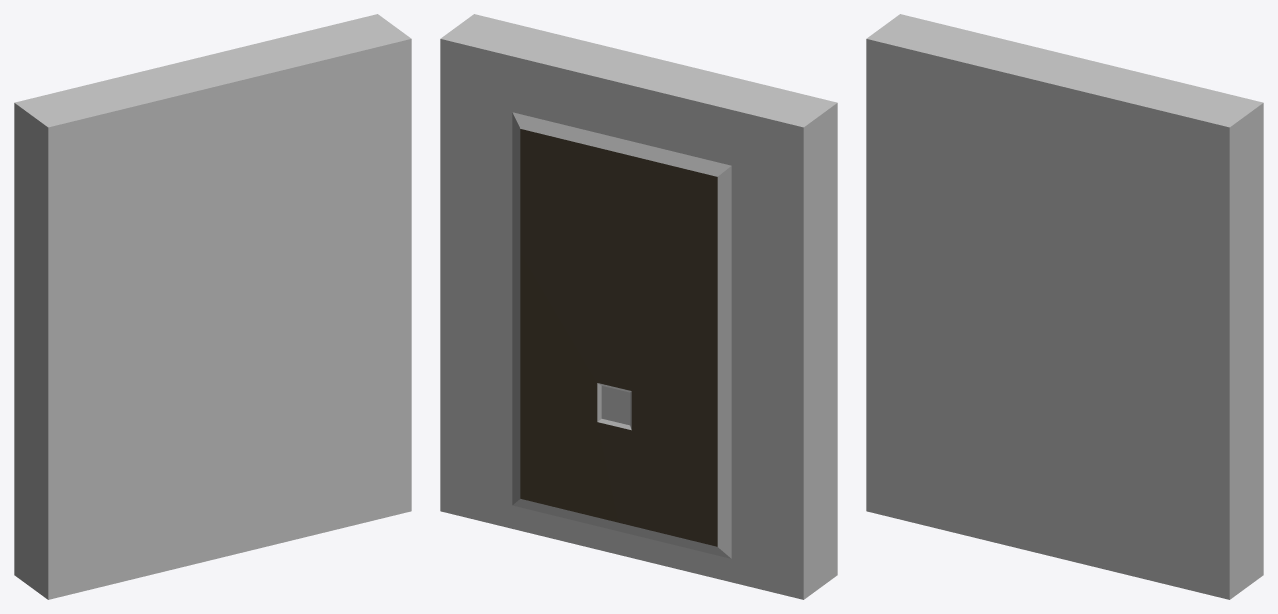
File: EVT_ADDON_NW_TEMPELDOOR_01.OBJ
3 views of the same model, side by side, from view 1: azimuth 30°, elevation 25°; view 2: azimuth 150°, elevation 25°; view 3: azimuth 330°, elevation 25° (orthographic).
Parts seen in each view (by area): view 1: EVT_ADDON_NW_TEMPELDOOR_01; view 2: EVT_ADDON_NW_TEMPELDOOR_01; view 3: EVT_ADDON_NW_TEMPELDOOR_01.
Boxes of the visible parts, x1,y1,x2,y2 form: EVT_ADDON_NW_TEMPELDOOR_01: (14,14,411,599); EVT_ADDON_NW_TEMPELDOOR_01: (440,14,837,599); EVT_ADDON_NW_TEMPELDOOR_01: (866,14,1263,599).
Size of the model in its own units: 3.45 by 4.28 by 0.6094.
